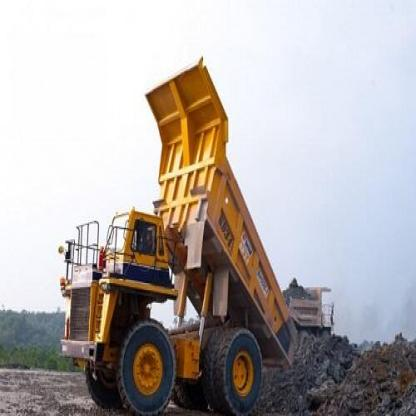dump_truck: (48, 40, 301, 408)
